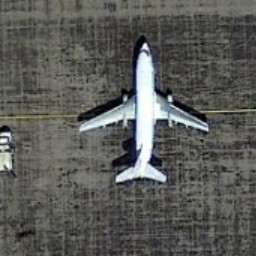Airplane: (75, 29, 214, 196)
